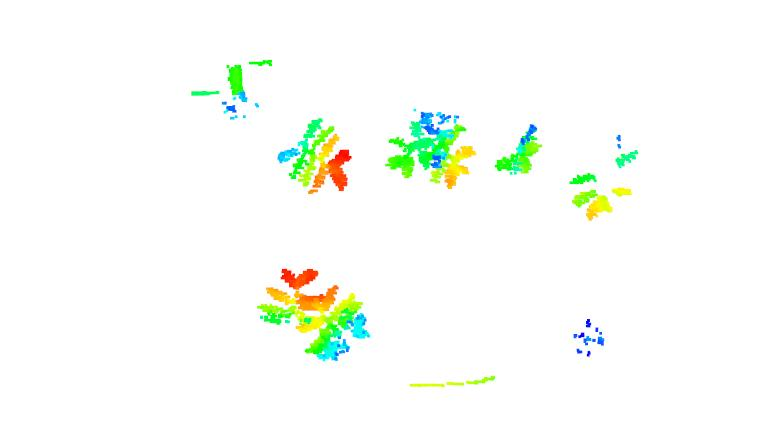chickpea: (383, 120, 473, 188), (278, 117, 353, 194), (567, 147, 643, 220), (304, 292, 377, 363), (259, 266, 337, 331), (494, 130, 542, 174)
